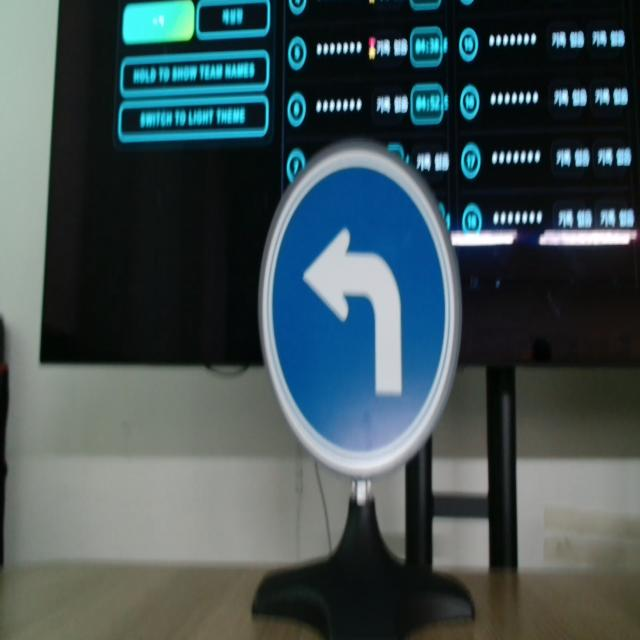left_direction: (254, 144, 465, 481)
